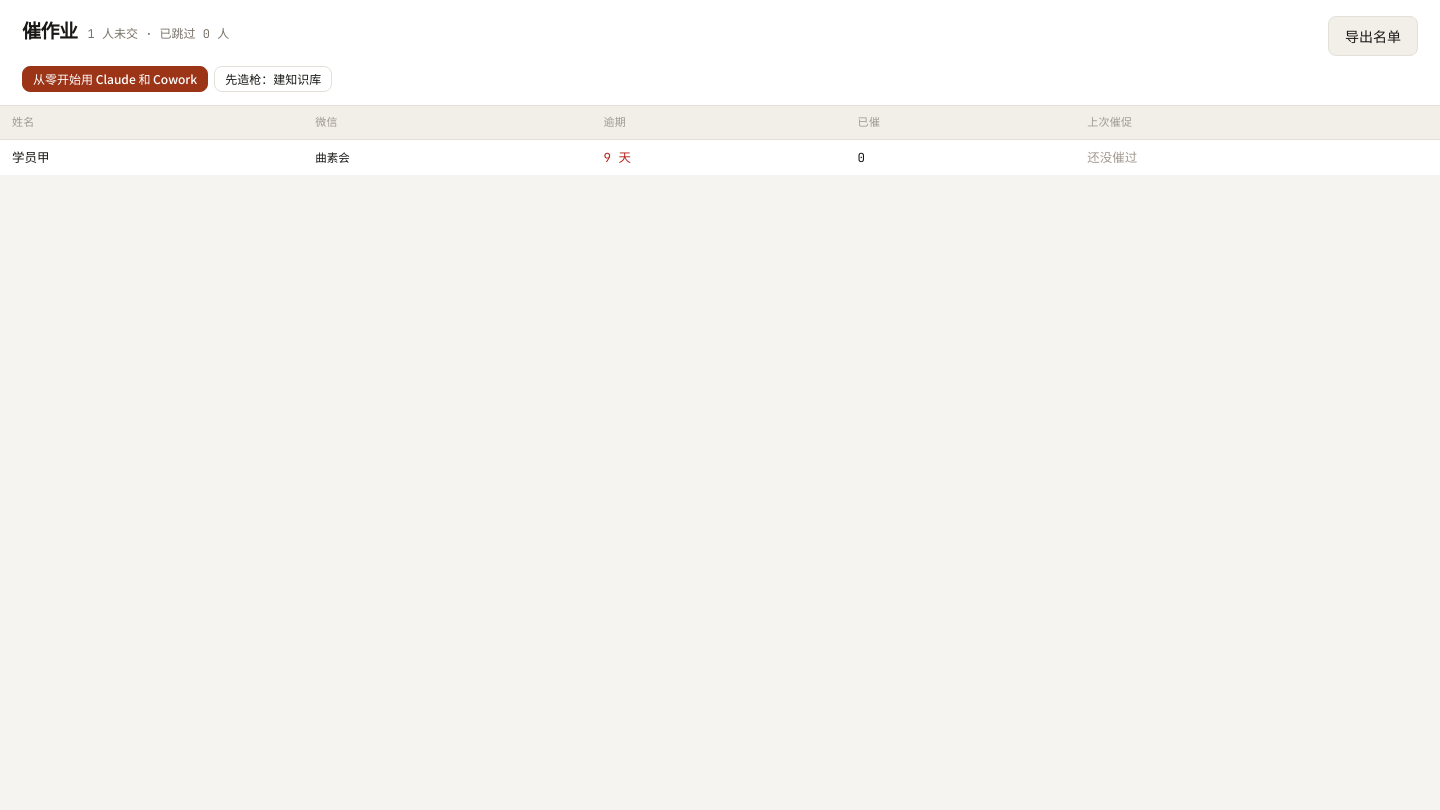
发送邮件 › 点击发送邮件弹出确认对话框，显示目标邮箱
Click the row with test id "nudge-alpha@example.com" at (720, 157), box [0,139,1439,175]
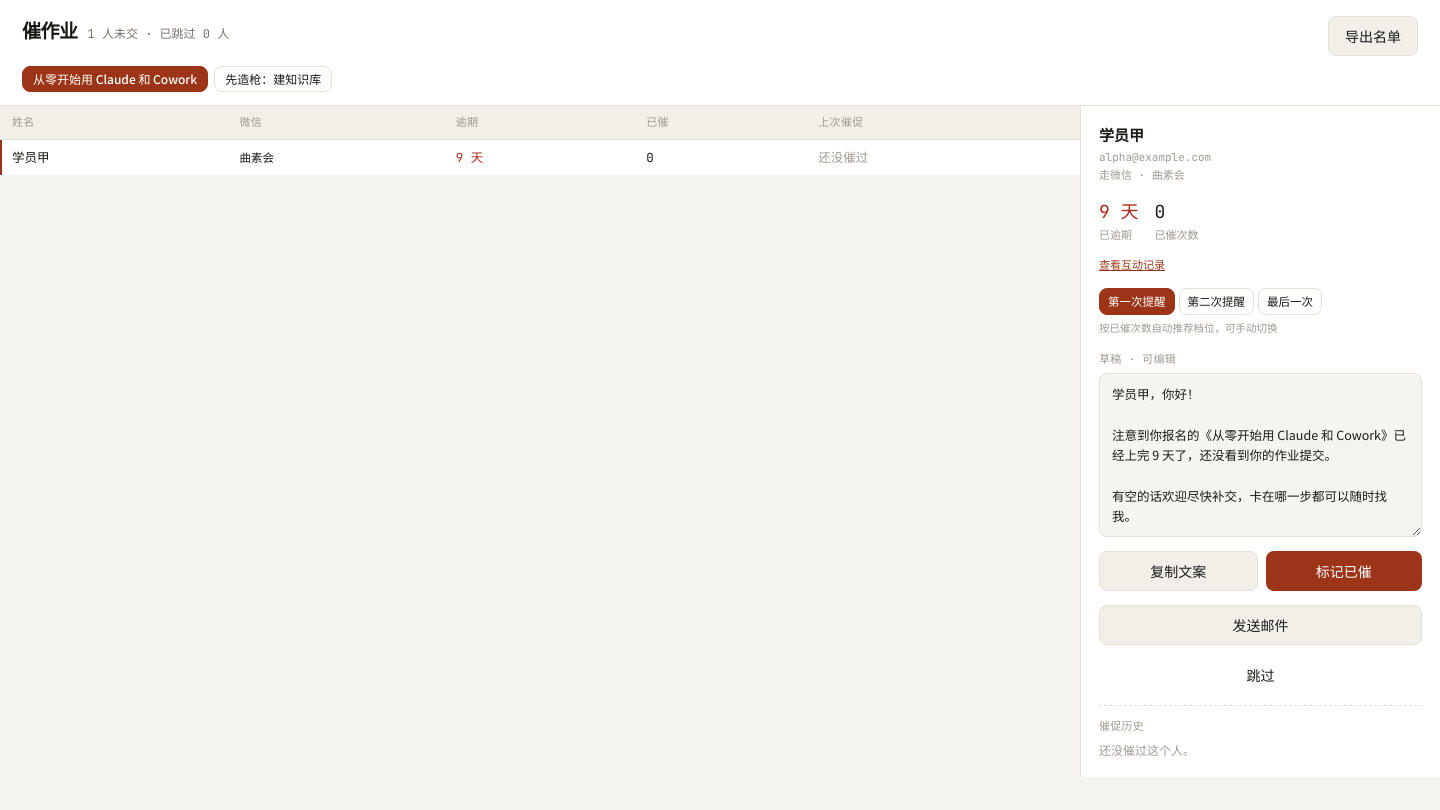
Click the button "发送邮件" at (1260, 625), box [1099,605,1422,645]
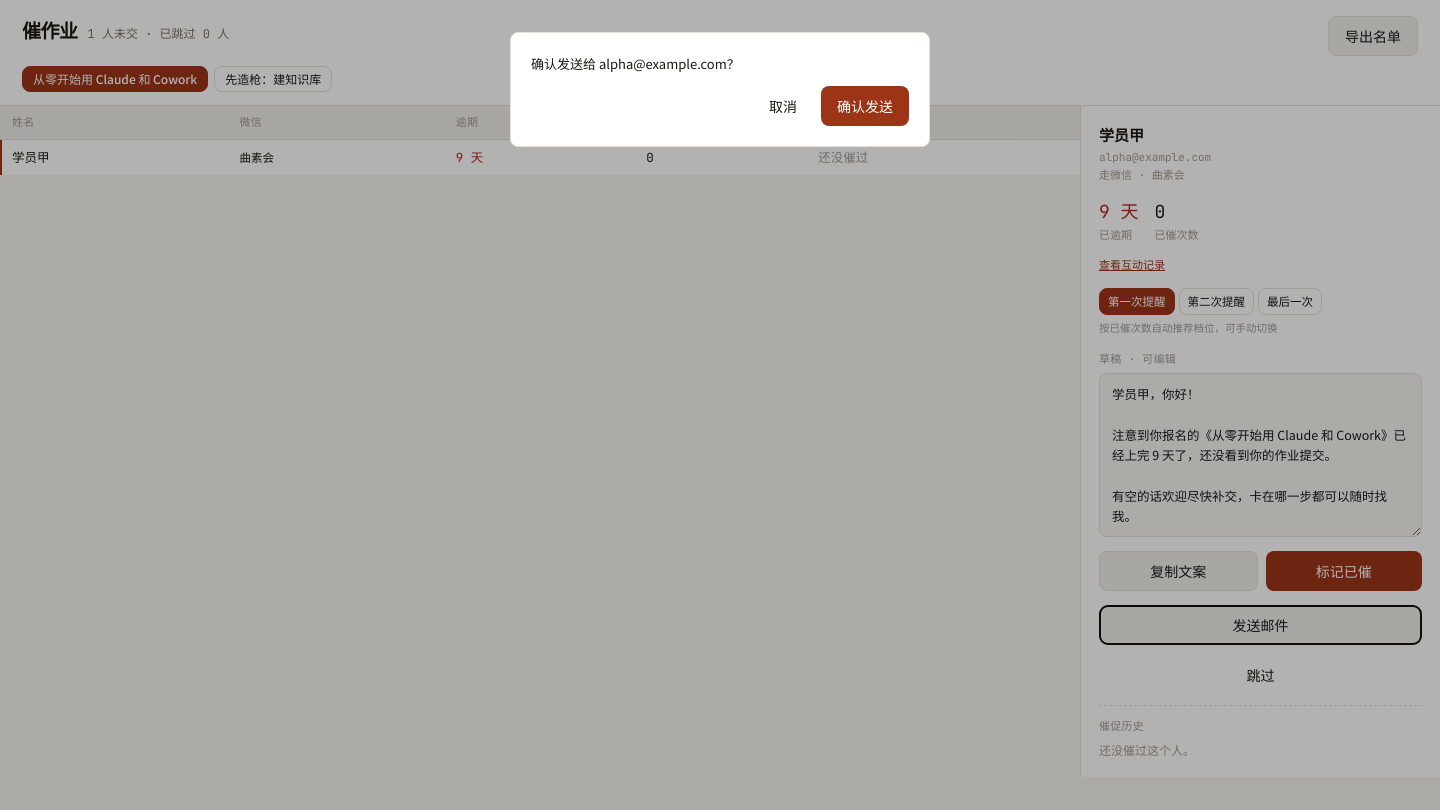
Expected: the dialog shows "alpha@example.com", [599,54,727,73]
